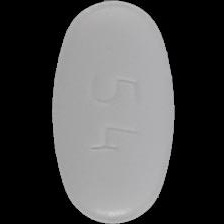61786-514: (0, 0, 224, 224)
